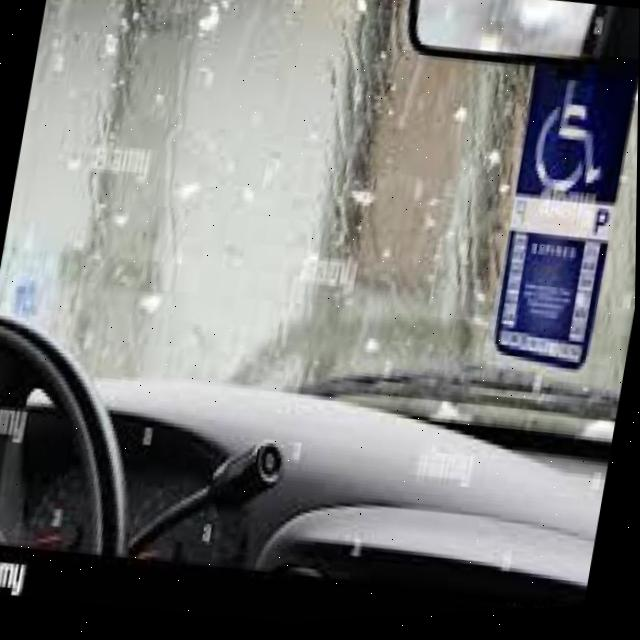symbol_of_access: (532, 74, 617, 206)
